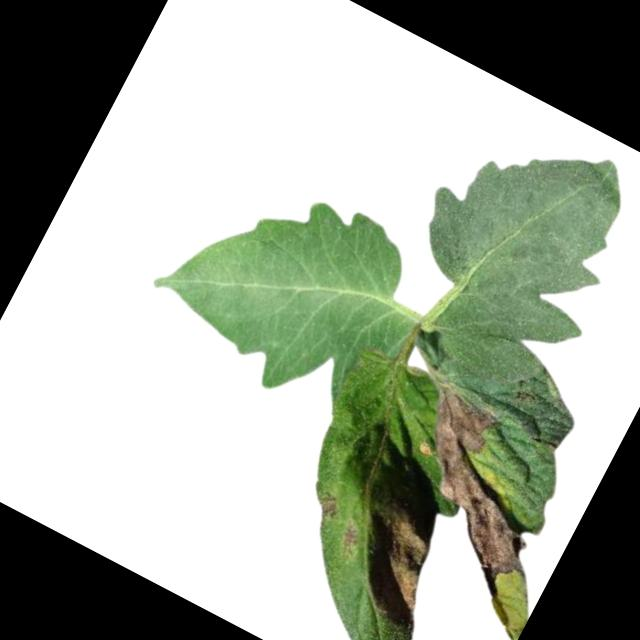Late_blight: (362, 380, 583, 601), (335, 487, 463, 631), (330, 520, 365, 565), (310, 490, 344, 523)
healthy: (130, 140, 449, 438), (379, 93, 640, 385)
